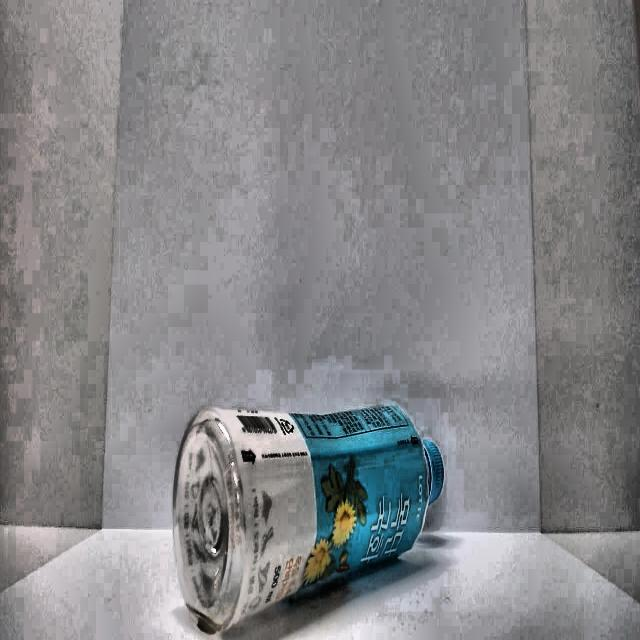Bottles: (164, 379, 458, 637)
